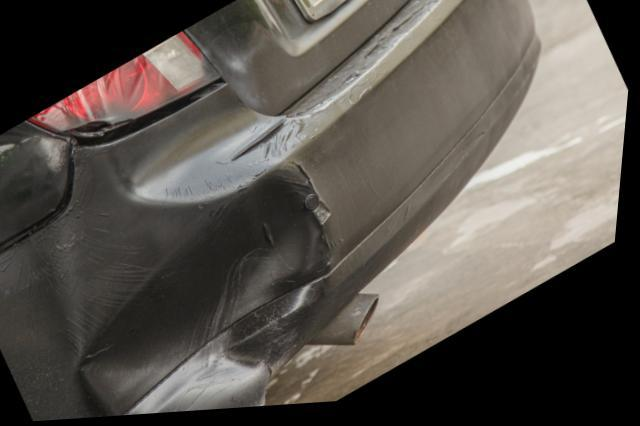dent: (92, 176, 339, 418)
lamp broken: (27, 33, 225, 139)
scratch: (65, 239, 162, 361)
